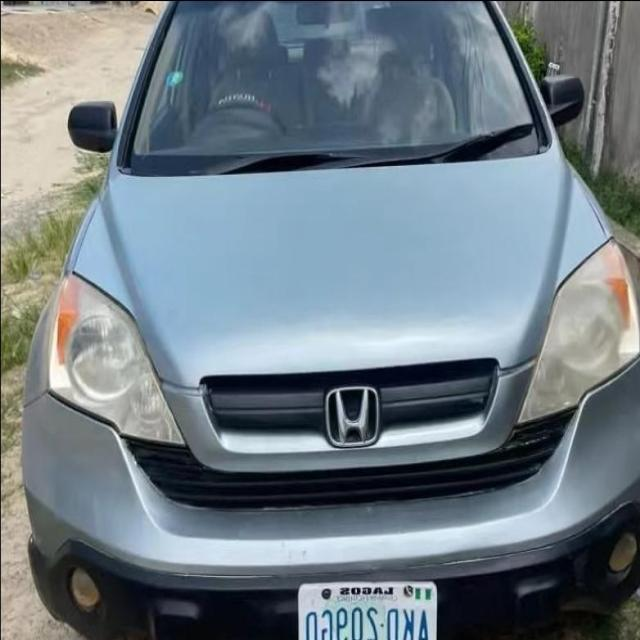Nigerian License Plate - vdataset benjamin-daria: (295, 577, 438, 640)
